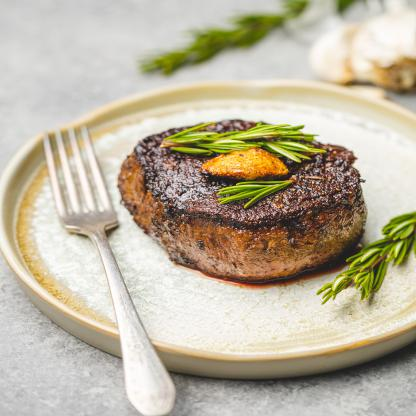Carne: (113, 122, 369, 284)
